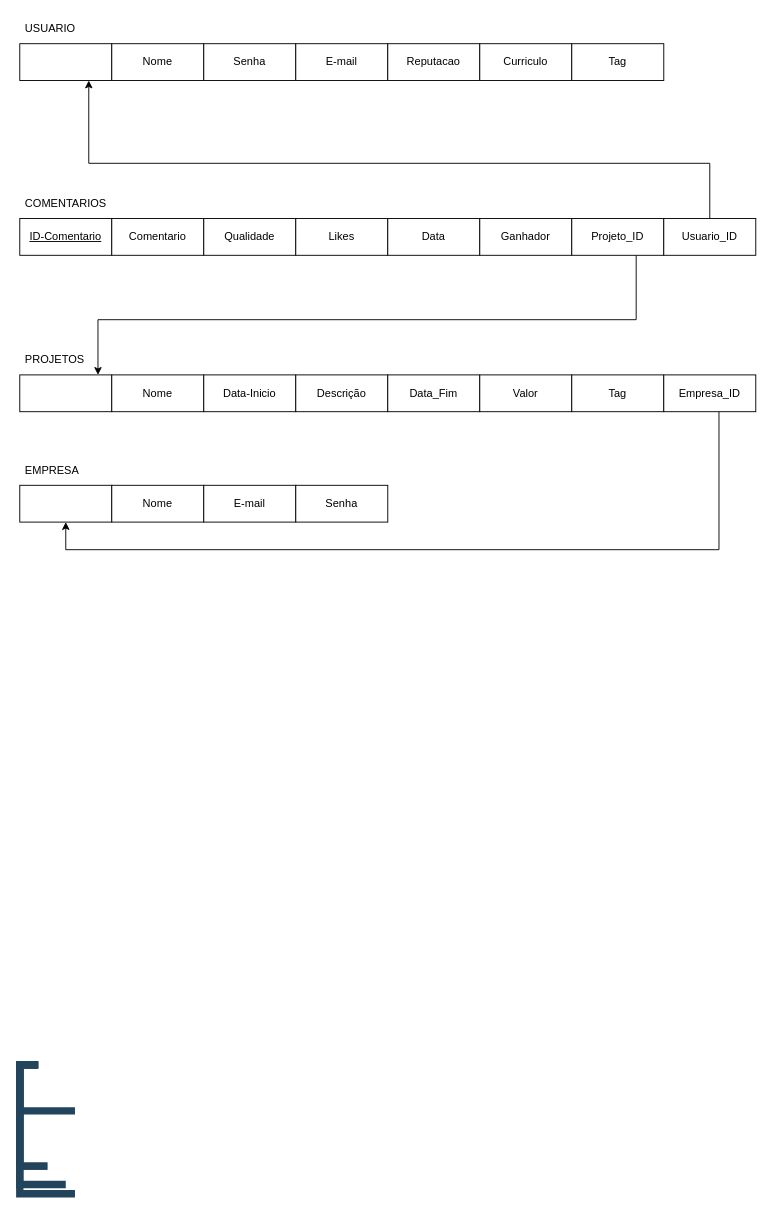
Some shapes in this 772 by 1213 pixel diagram are drawn without their labels. The centre of each missing label's shape, as x and y in pixels:
"ID_Empresa" goes at point (65, 503).
"ID_Projeto" goes at point (65, 393).
"ID_Usuario" goes at point (65, 61).
